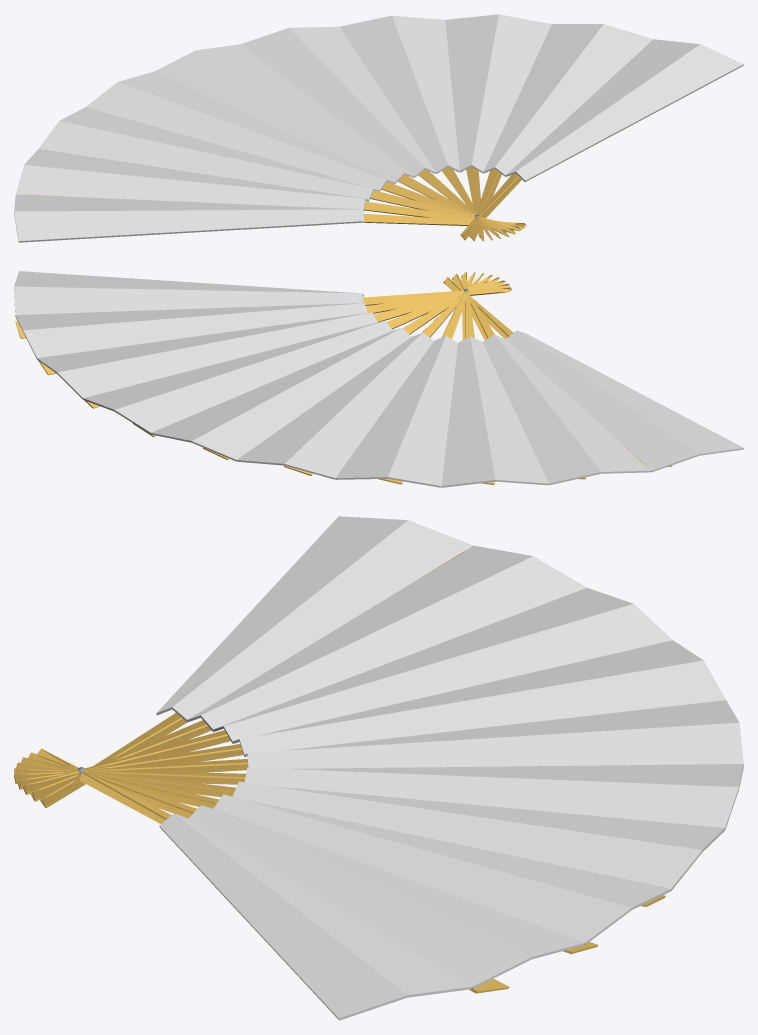
File: Fan.fbx
3 views of the same model, one above another, from view 1: azimuth 30°, elevation 25°; view 2: azimuth 150°, elevation 25°; view 3: azimuth 270°, elevation 25° (orthographic). The views are drawn at different scales.
Parts seen in each view (by area): view 1: 平面; view 2: 平面; view 3: 平面.
Boxes of the visible parts, bbox=[...] form: 平面: bbox=[14, 14, 743, 242]; 平面: bbox=[14, 271, 743, 487]; 平面: bbox=[14, 516, 743, 1020].
Size of the model in its own units: 3181 by 80.27 by 1954.
